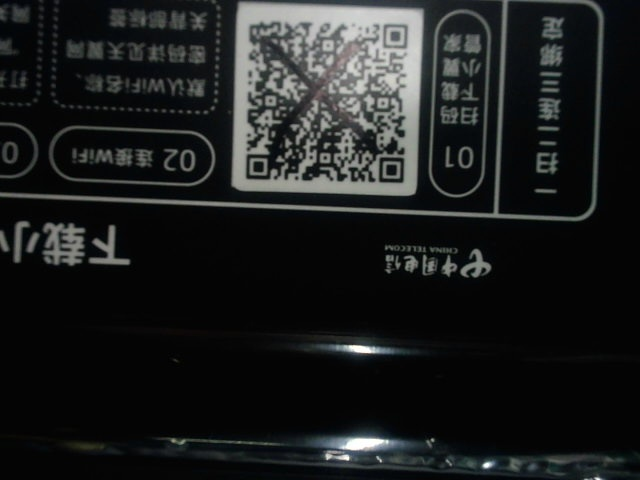AB_ChinaTelecom: (377, 239, 490, 281)
